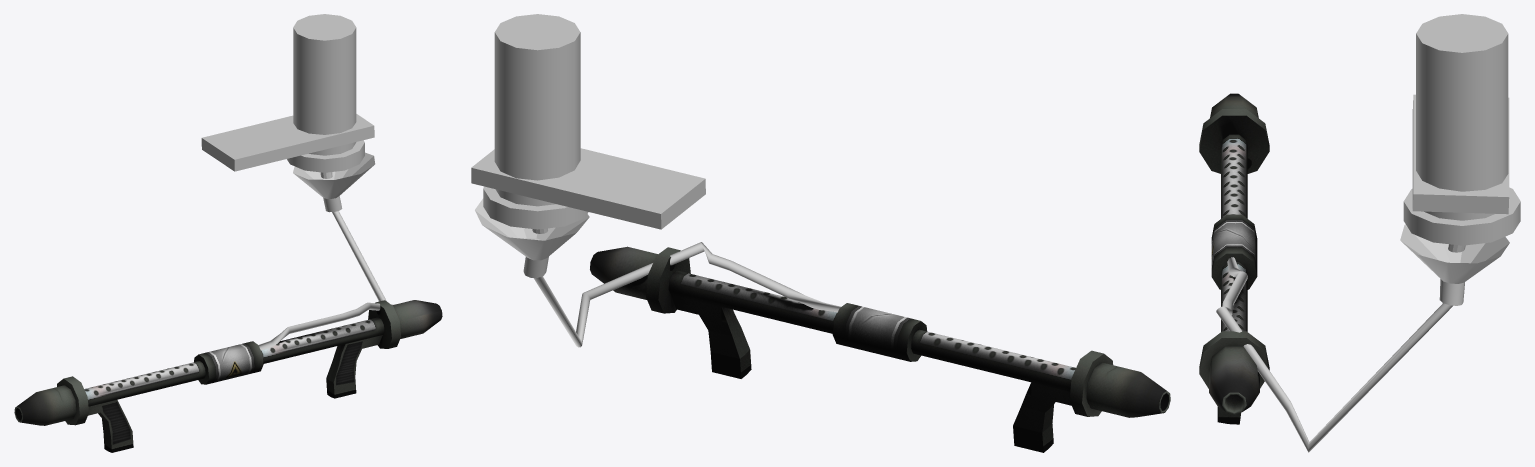
Rendered from flamethrower.FBX.
The picture shows the model from 3 angles, left to right: view 1: azimuth 30°, elevation 25°; view 2: azimuth 150°, elevation 25°; view 3: azimuth 270°, elevation 25°; orthographic projection. The views are drawn at different scales.
Parts seen in each view (by area): view 1: Cylinder062; view 2: Cylinder062; view 3: Cylinder062.
Part boxes in pixels (bbox=[...]): Cylinder062: bbox=[14, 14, 442, 452]; Cylinder062: bbox=[471, 14, 1170, 452]; Cylinder062: bbox=[1199, 14, 1520, 452].
Bounding box in the file's own units: 114 × 74.71 × 50.84.
